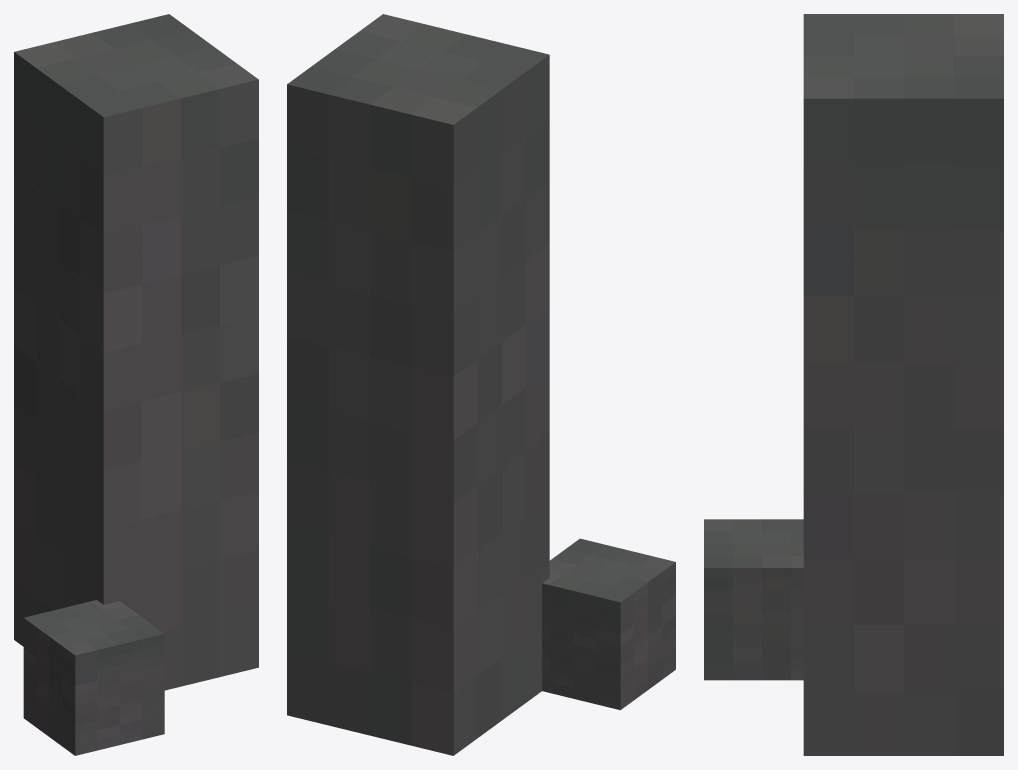
File: pyrolusite_crystal_two.obj
3 views of the same model, side by side, from view 1: azimuth 30°, elevation 25°; view 2: azimuth 150°, elevation 25°; view 3: azimuth 270°, elevation 25° (orthographic). The views are drawn at different scales.
Visible parts, largest first — view 1: Crystal5_Cube.008; view 2: Crystal5_Cube.008; view 3: Crystal5_Cube.008.
Part boxes in pixels (left/top/right/bottom): Crystal5_Cube.008: left=14, top=14, right=258, bottom=755; Crystal5_Cube.008: left=287, top=14, right=675, bottom=755; Crystal5_Cube.008: left=704, top=14, right=1003, bottom=755.
Bounding box in the file's own units: 0.1355 × 0.3335 × 0.1379.
